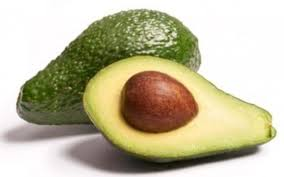avocado: (83, 56, 276, 159)
